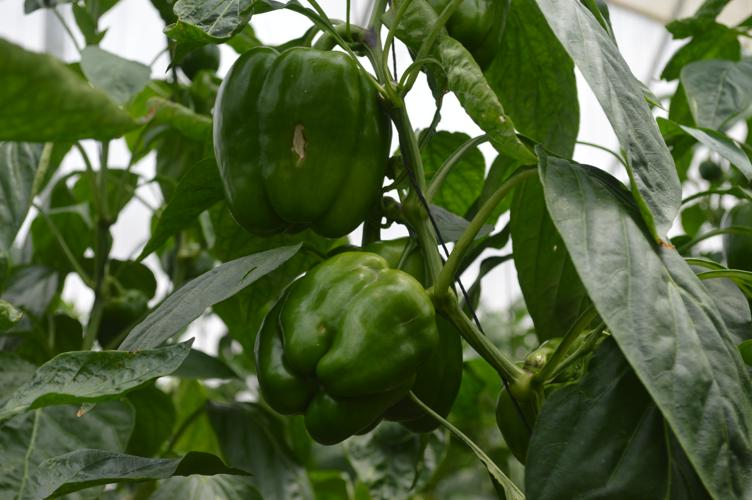BellPepper: (211, 48, 391, 239), (251, 254, 429, 442), (358, 240, 463, 432)
